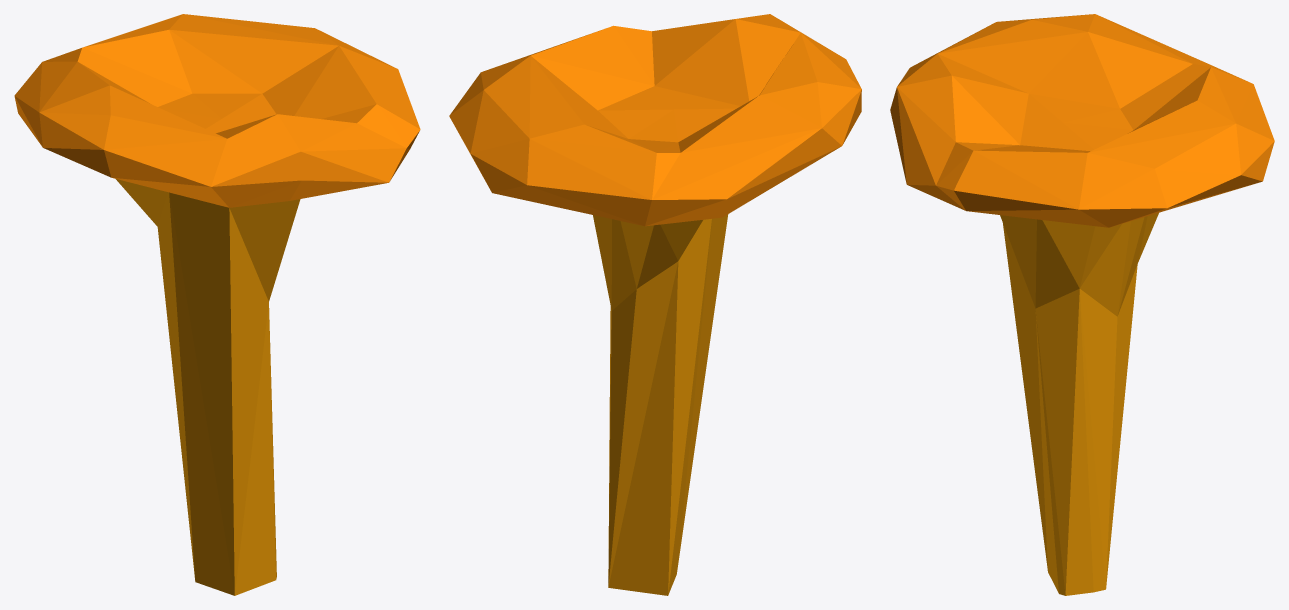
File: Vegetation_Verdant_Mushroom_Toadstool_Upright_01.FBX
3 views of the same model, side by side, from view 1: azimuth 30°, elevation 25°; view 2: azimuth 150°, elevation 25°; view 3: azimuth 270°, elevation 25° (orthographic). The views are drawn at different scales.
Visible parts, largest first — view 1: Vegetation_Verdant_Mushroom_Toadstool_Upright_01; view 2: Vegetation_Verdant_Mushroom_Toadstool_Upright_01; view 3: Vegetation_Verdant_Mushroom_Toadstool_Upright_01.
Boxes of the visible parts, x1=… form: Vegetation_Verdant_Mushroom_Toadstool_Upright_01: x1=14, y1=14, x2=420, y2=595; Vegetation_Verdant_Mushroom_Toadstool_Upright_01: x1=449, y1=14, x2=861, y2=595; Vegetation_Verdant_Mushroom_Toadstool_Upright_01: x1=890, y1=14, x2=1274, y2=595.
Size of the model in its own units: 748 by 1038 by 734.
